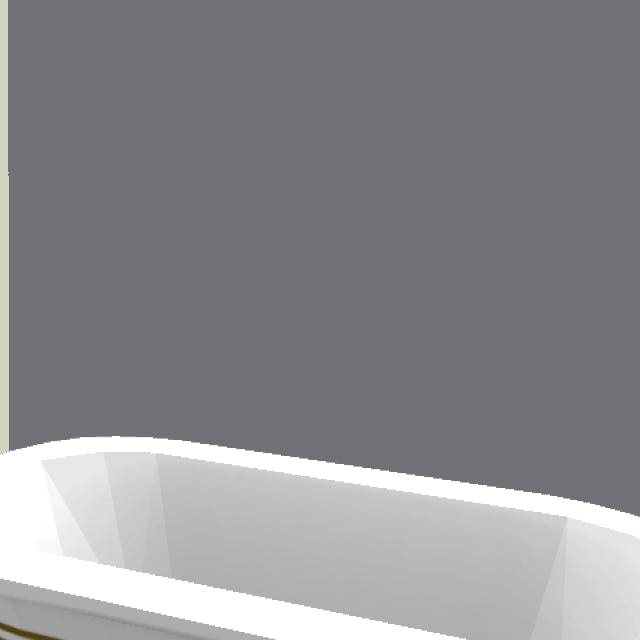bathtube: (0, 436, 640, 640)
